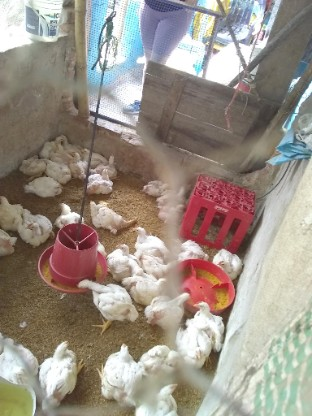Pollos: (76, 277, 136, 327), (40, 336, 82, 402), (0, 328, 40, 397), (137, 341, 189, 389), (135, 380, 181, 416), (192, 299, 227, 345), (88, 199, 138, 231), (147, 288, 192, 323), (180, 322, 212, 370), (104, 341, 136, 388), (20, 208, 54, 248), (213, 243, 243, 285), (171, 234, 209, 267), (128, 265, 167, 297), (128, 223, 165, 254), (108, 237, 137, 273), (141, 247, 175, 276), (0, 193, 23, 230), (55, 202, 85, 230), (157, 203, 186, 229), (24, 177, 63, 196), (83, 170, 113, 194), (45, 161, 73, 186), (0, 229, 20, 258), (159, 185, 189, 204), (142, 178, 170, 196), (69, 151, 89, 176), (19, 156, 43, 175), (80, 146, 104, 165), (97, 154, 116, 174), (55, 141, 65, 154), (61, 132, 71, 144), (52, 133, 62, 143)
